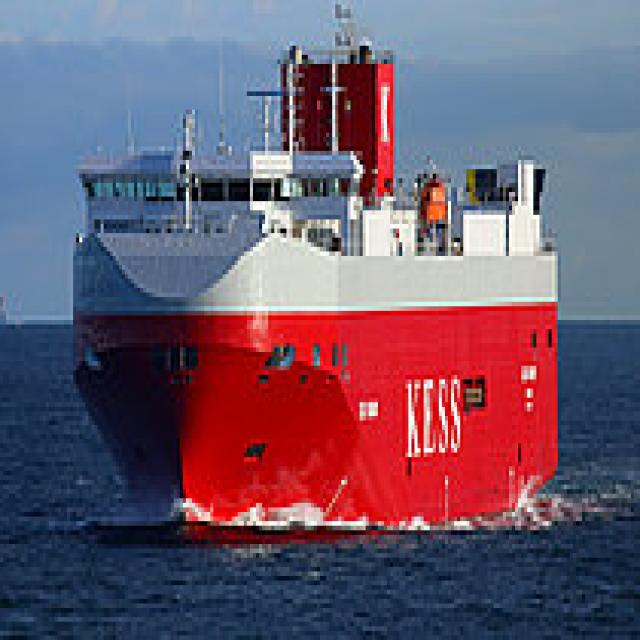Carrier: (67, 0, 558, 535)
